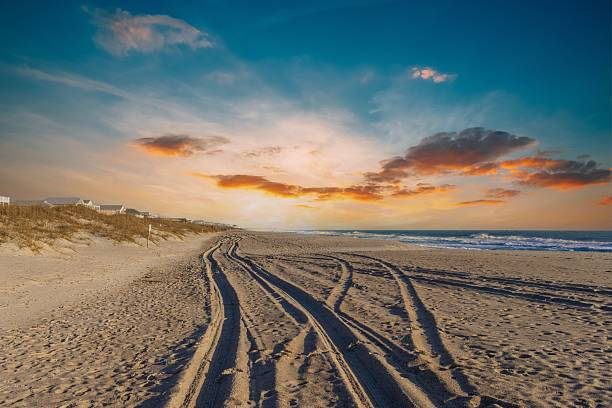vehicle_track: (229, 244, 436, 406), (347, 254, 476, 404), (168, 240, 240, 407)
